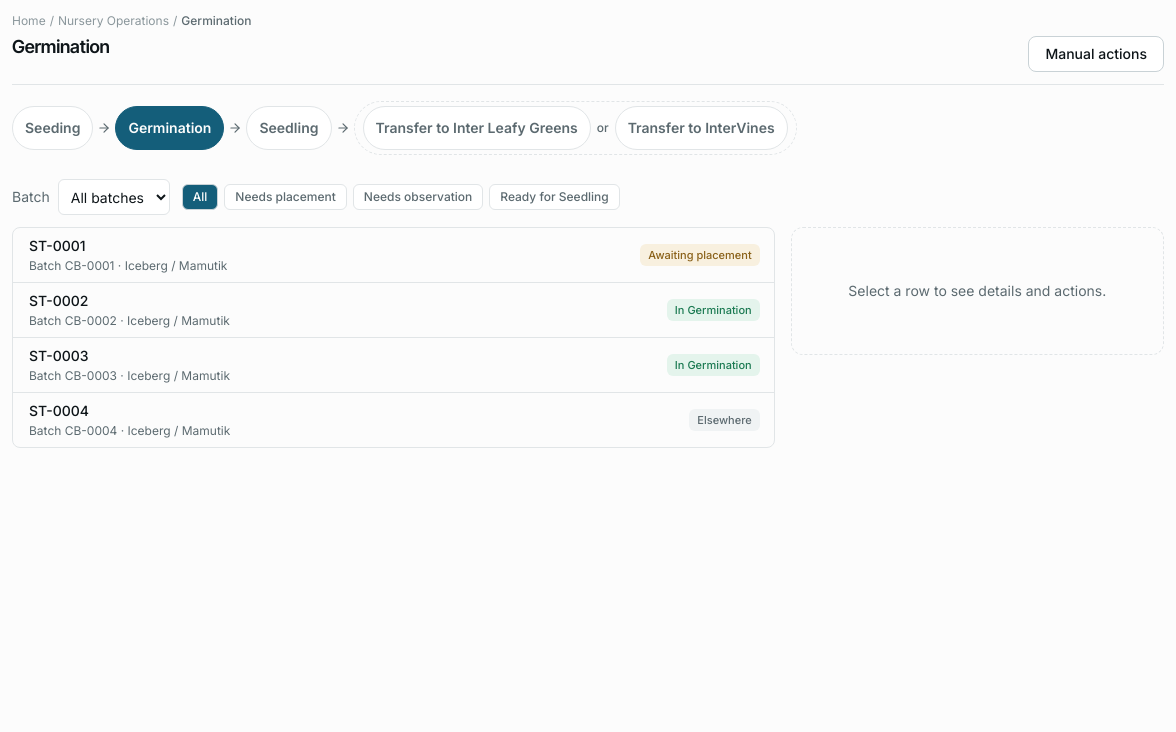
Test: GerminationPage worklist › never represents abnormal/weak seedlings as loss anywhere in the worklist or inspector
This screenshot has width=1176, height=732.
Expected: the text "ST-0003" is shown, [29,346,88,366]
Step 1. Click the button "ST-0003 Batch CB-0003 · Iceberg / Mamutik" → (59, 356), box [29,346,655,384]
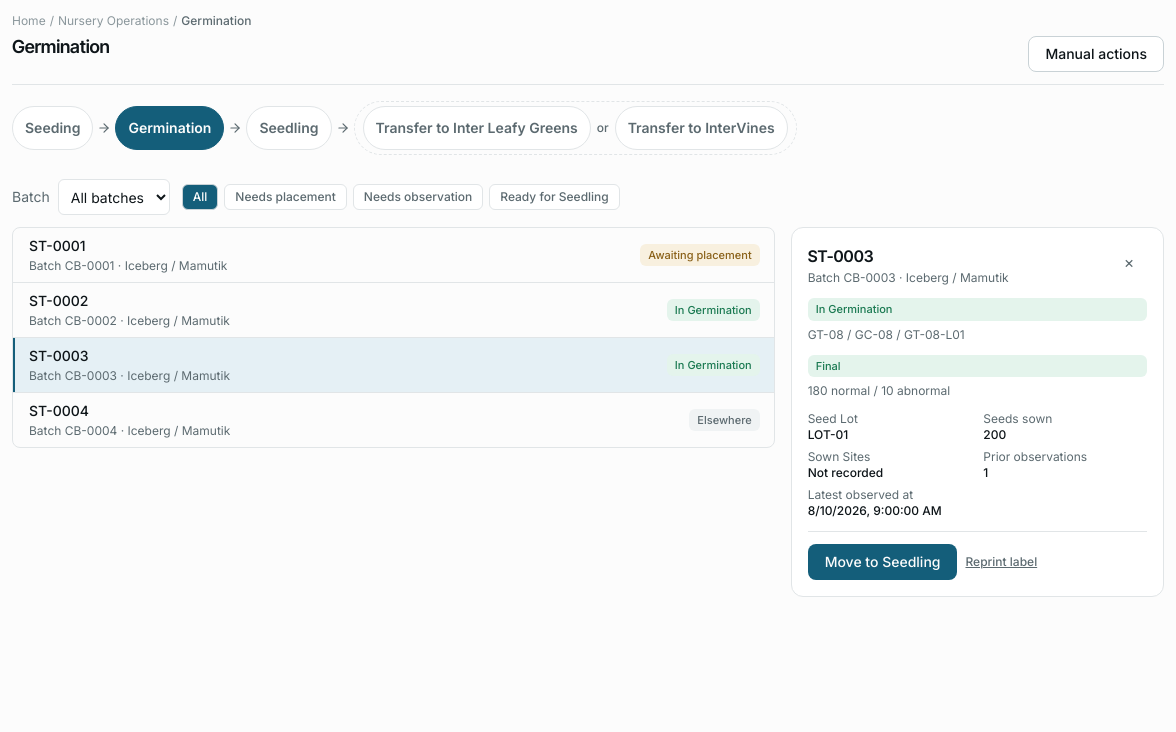
Now the text "180 normal / 10 abnormal" is shown, box [808,383,950,398]
